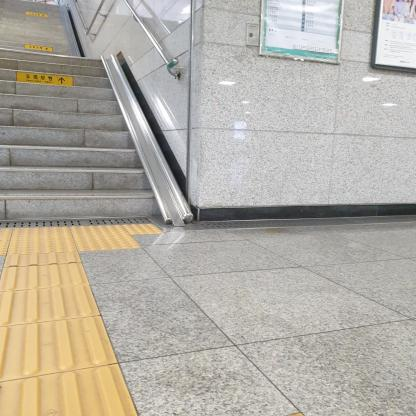go: (0, 316, 119, 383), (0, 284, 100, 327), (0, 262, 89, 291)
stop: (6, 237, 77, 255), (73, 235, 142, 251), (10, 226, 73, 240), (69, 225, 130, 237)
